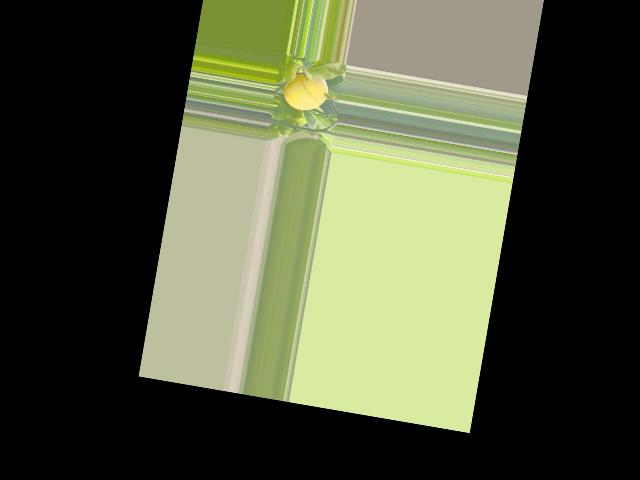lemon: (281, 65, 334, 117)
